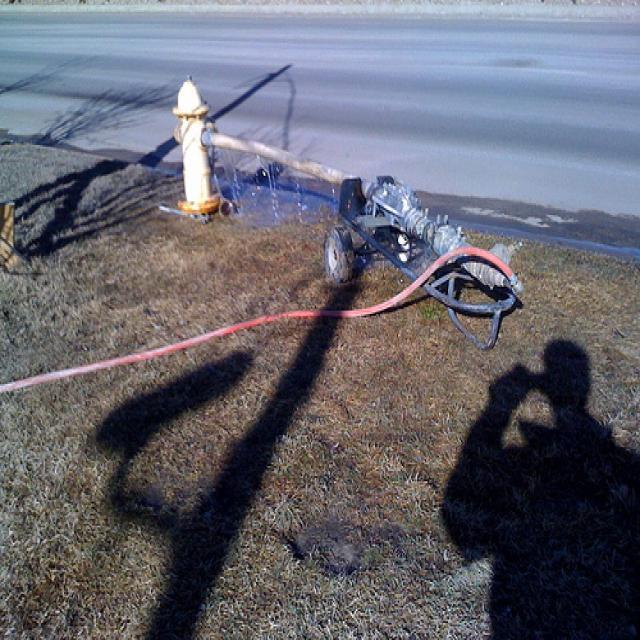fire_hydrant: (170, 72, 234, 216)
